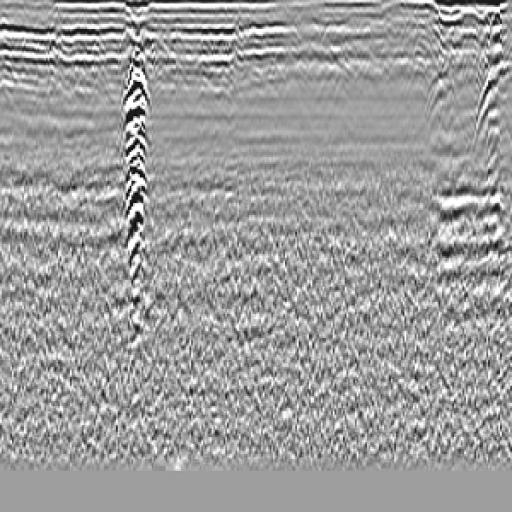metalic: (110, 19, 169, 341)
nonmetalic: (465, 8, 512, 206)
